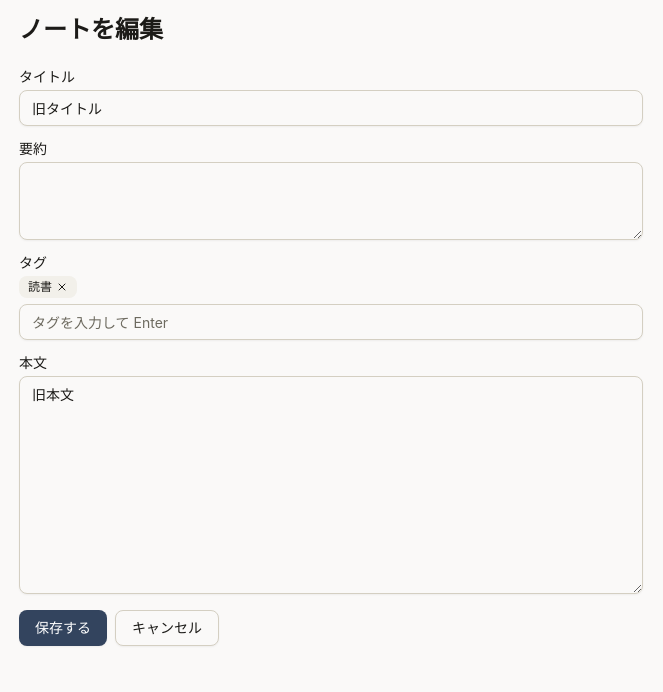
Scenario: NoteEditPage › 本文を空にして保存するとバリデーションエラーを表示する
Clear the text box labelled "本文". click: coordinates (331, 485)
box: [19,376,643,594]
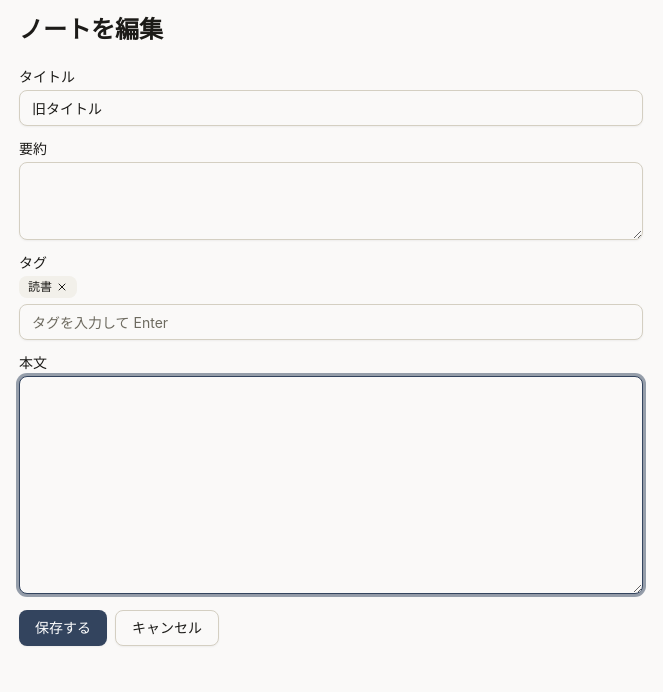
Click the button "保存する". click: coordinates (63, 628)
box: [19,610,107,646]
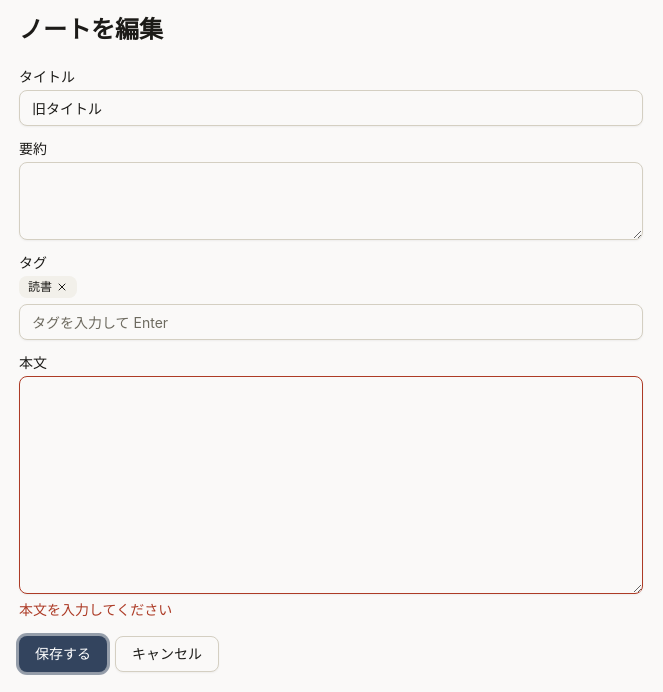
expect the text "本文を入力してください" is shown: met, box [19,601,172,618]
